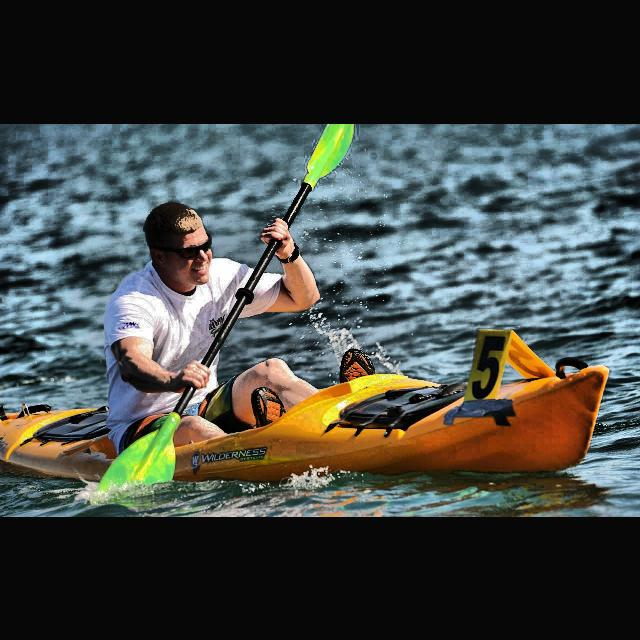kayak: (0, 355, 612, 483)
